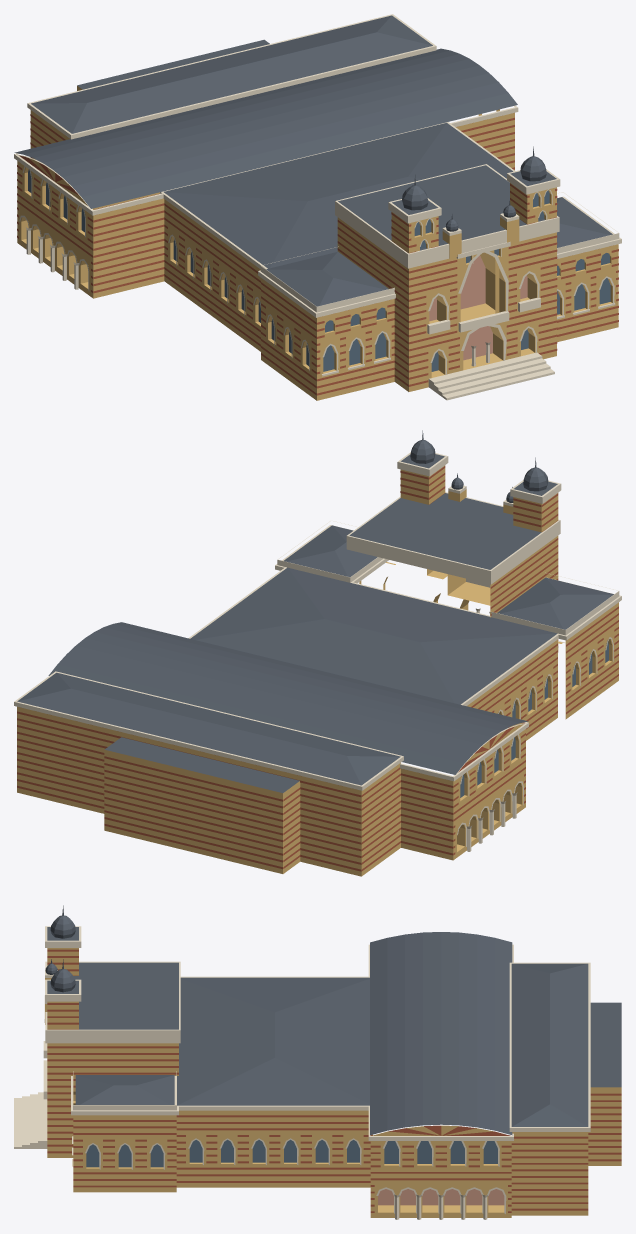
File: tbilisi-opera.glb
3 views of the same model, one above another, from view 1: azimuth 30°, elevation 25°; view 2: azimuth 150°, elevation 25°; view 3: azimuth 270°, elevation 25° (orthographic). The views are drawn at different scales.
Parts seen in each view (by area): view 1: Tbilisi Opera and Ballet Theatre; view 2: Tbilisi Opera and Ballet Theatre; view 3: Tbilisi Opera and Ballet Theatre.
Part boxes in pixels (left/top/right/bottom): Tbilisi Opera and Ballet Theatre: left=14, top=14, right=621, bottom=400; Tbilisi Opera and Ballet Theatre: left=14, top=430, right=621, bottom=876; Tbilisi Opera and Ballet Theatre: left=14, top=905, right=621, bottom=1219.
Bounding box in the file's own units: 63.81 × 29.4 × 84.03.
